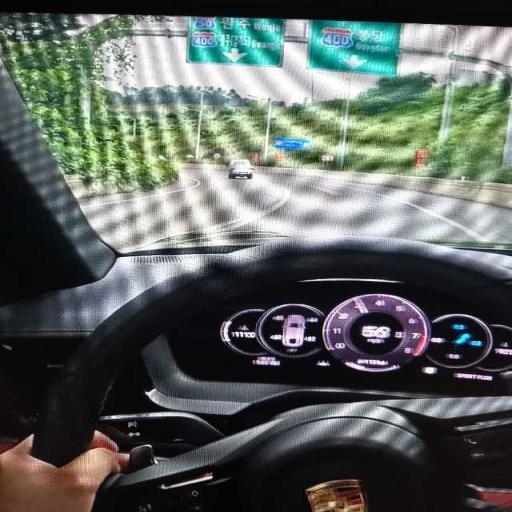car: (0, 0, 511, 511), (282, 315, 305, 347), (228, 160, 253, 178)
lane: (83, 167, 511, 250), (81, 167, 288, 251)
person: (0, 433, 127, 511)
